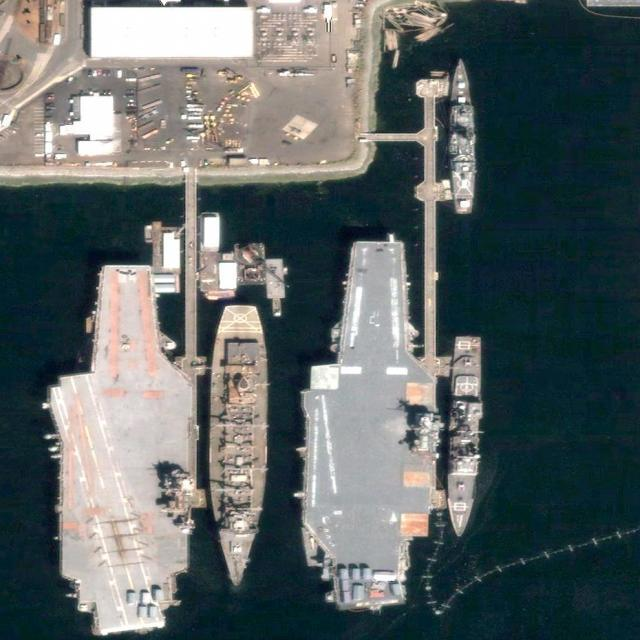Aircraft Carrier: (293, 237, 442, 612), (46, 264, 193, 636)
Cruiser: (446, 333, 482, 537)
Dock: (418, 78, 453, 376), (181, 179, 205, 378)
Other Ship: (273, 299, 282, 316), (145, 224, 153, 243)
Other Warship: (208, 304, 270, 586), (453, 59, 475, 216)
